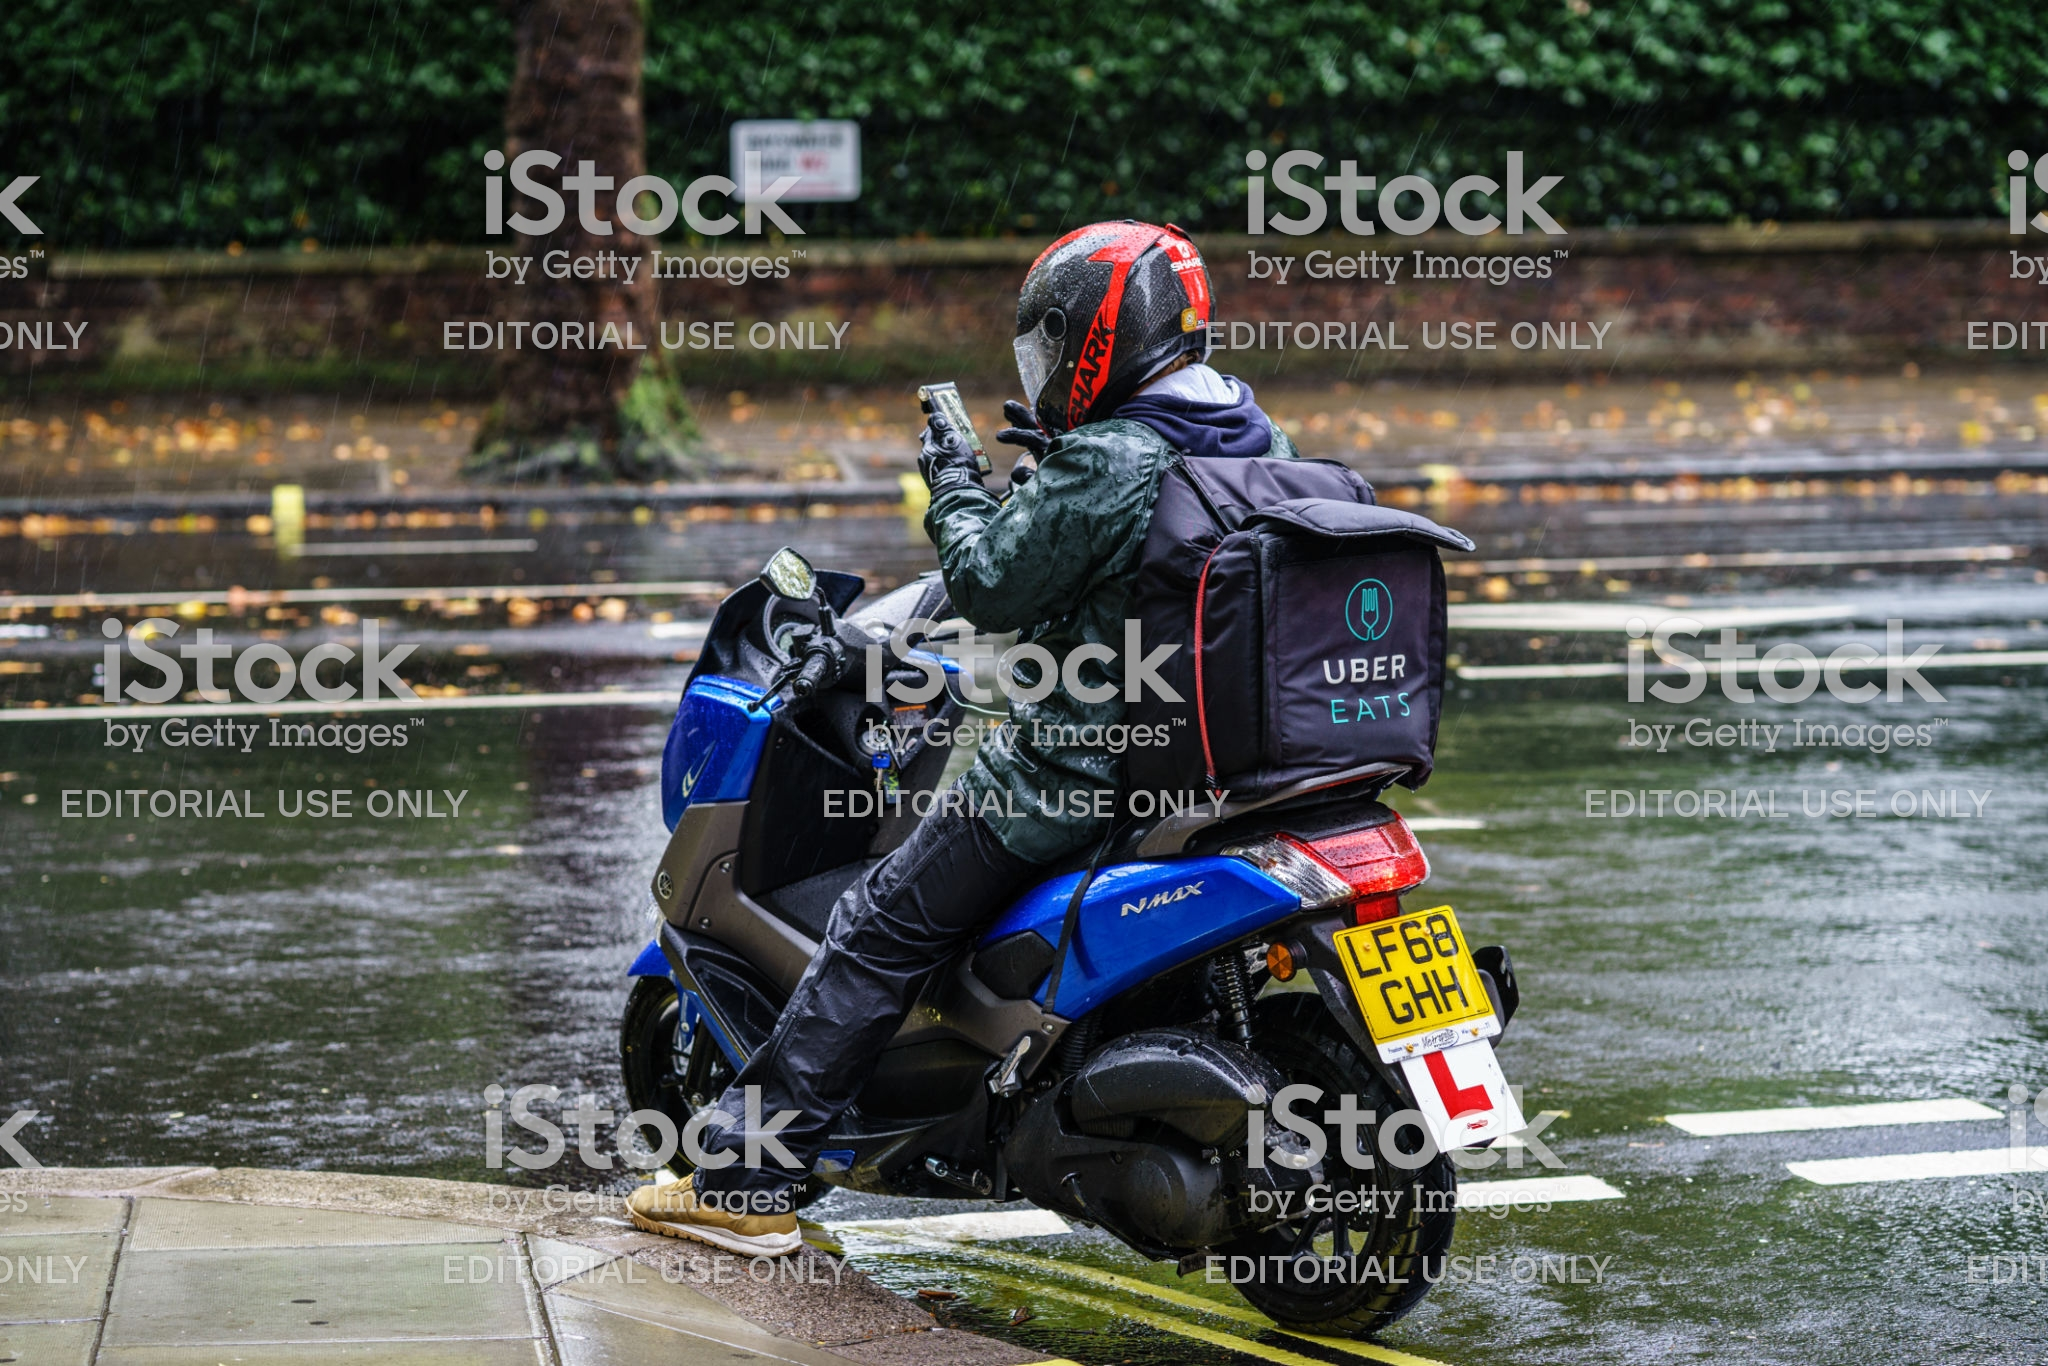helmet: (1015, 216, 1213, 404)
